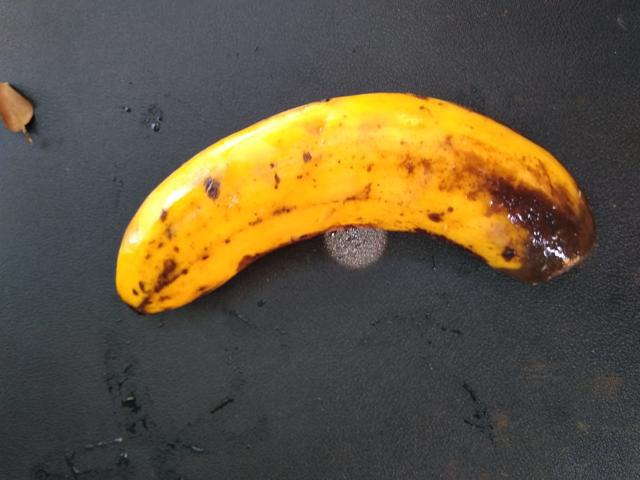overripe: (104, 74, 434, 343)
rotten: (387, 94, 609, 305)
